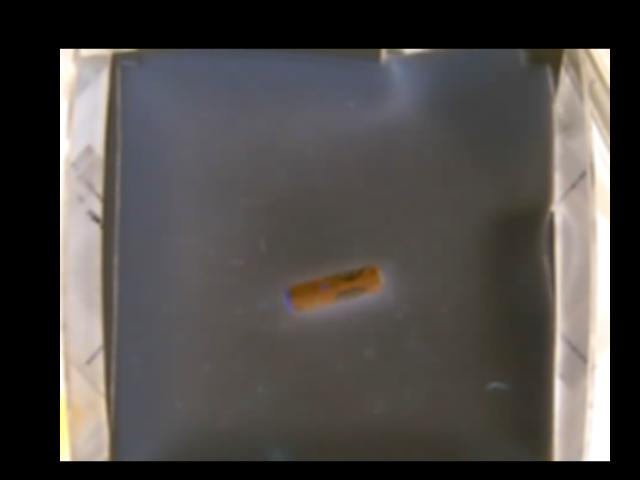Battery: (283, 264, 383, 309)
